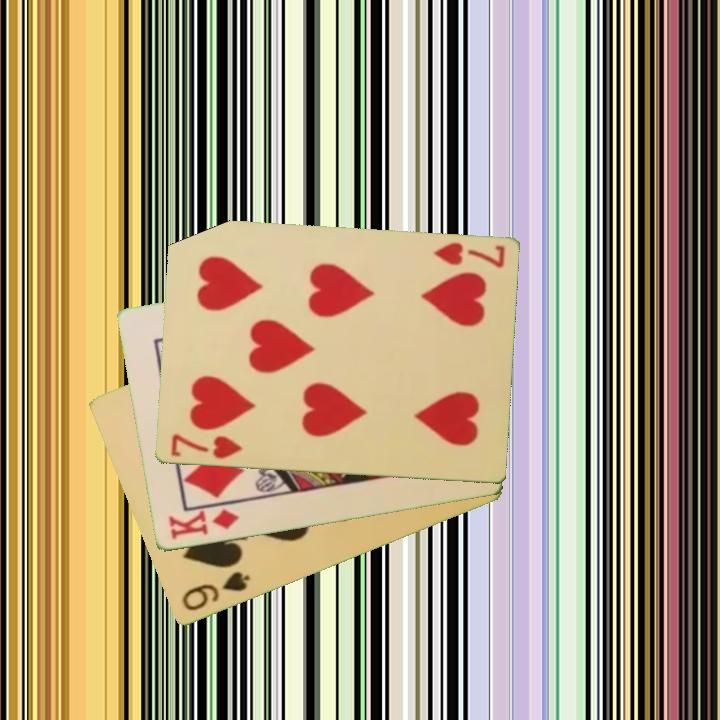7h: (430, 239, 507, 272), (167, 430, 245, 462)
9s: (178, 568, 254, 615)
Kd: (164, 505, 242, 543)
